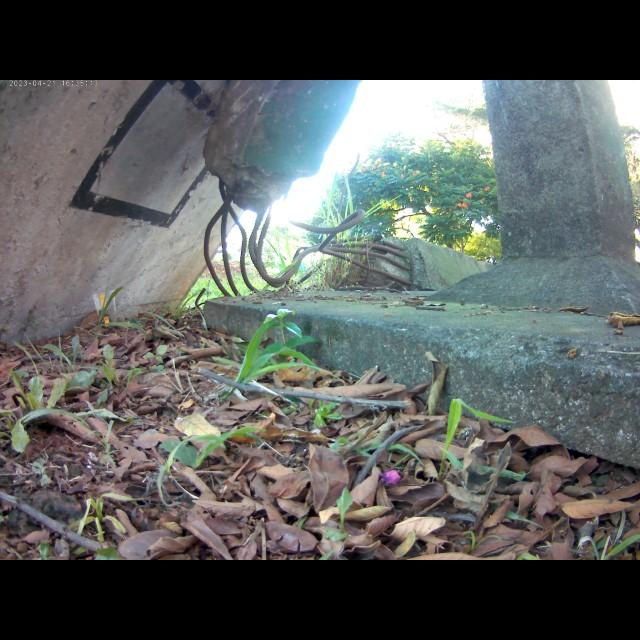detrito: (0, 80, 344, 358), (199, 290, 640, 476), (400, 80, 639, 321), (194, 80, 373, 217), (319, 229, 494, 293)
